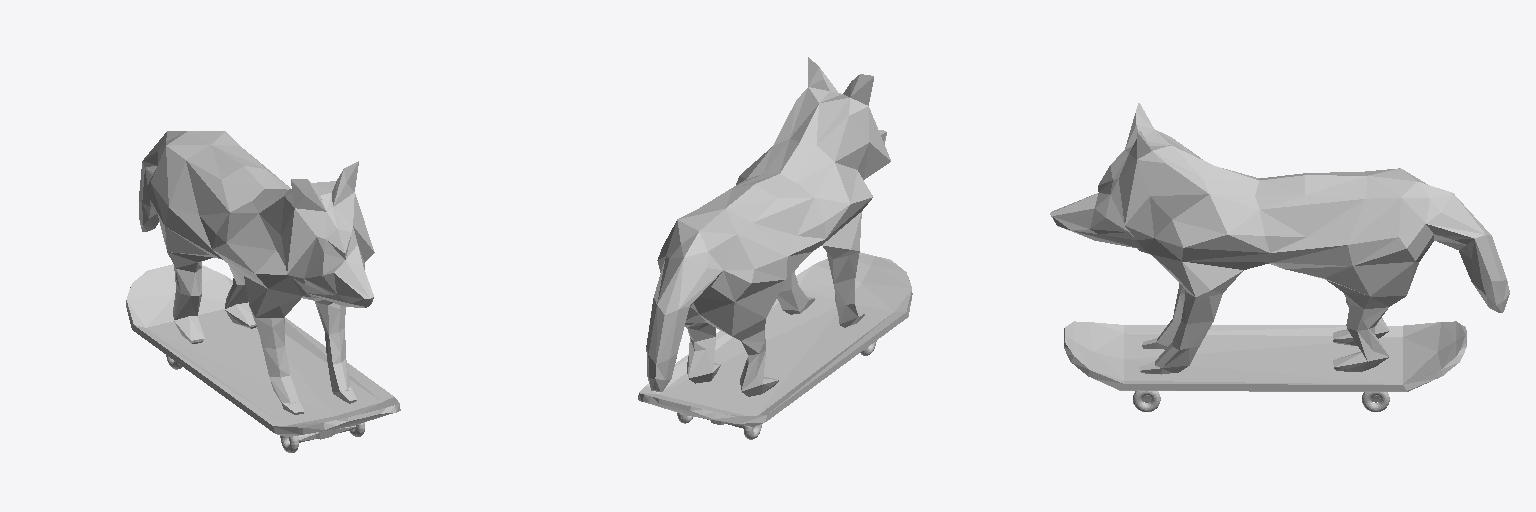
Rendered from Fuchs03.obj.
3 views of the same model, side by side, from view 1: azimuth 30°, elevation 25°; view 2: azimuth 150°, elevation 25°; view 3: azimuth 270°, elevation 25° (orthographic).
Size of the model in its own units: 3.58 by 7.88 by 11.76.